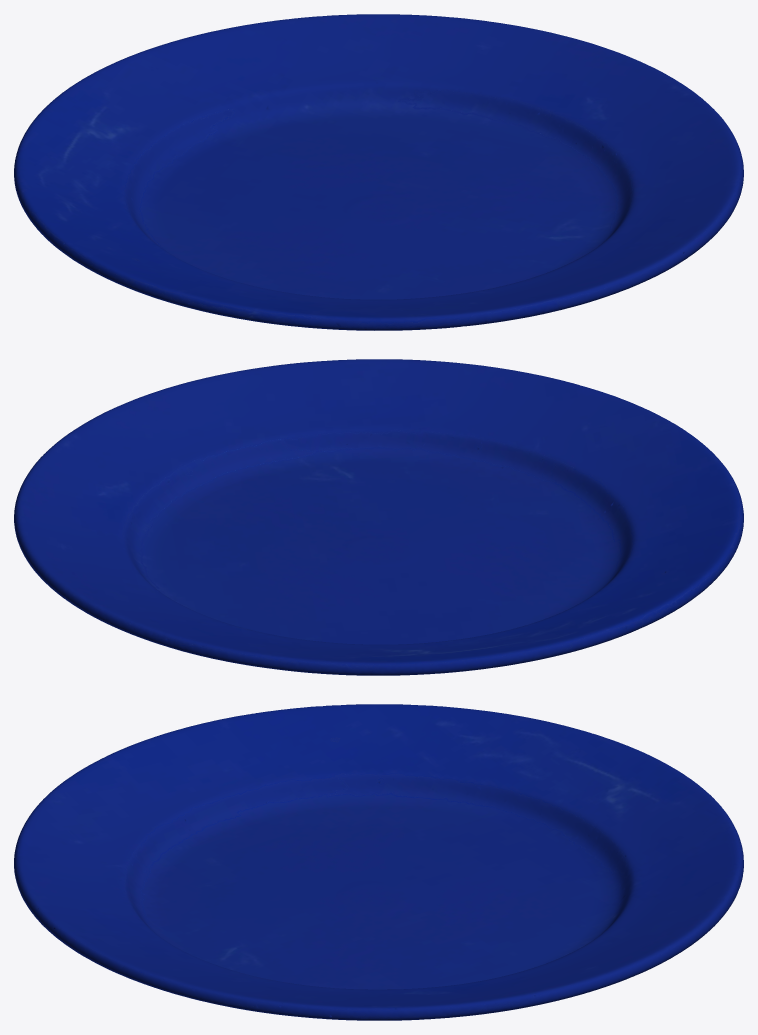
3 views of the same model, one above another, from view 1: azimuth 30°, elevation 25°; view 2: azimuth 150°, elevation 25°; view 3: azimuth 270°, elevation 25° (orthographic).
Bounding box in the file's own units: 1.99 × 0.1723 × 1.99.
Materials: 1 (1 with a texture image).
